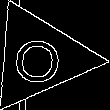O_N: (14, 30, 65, 84)
